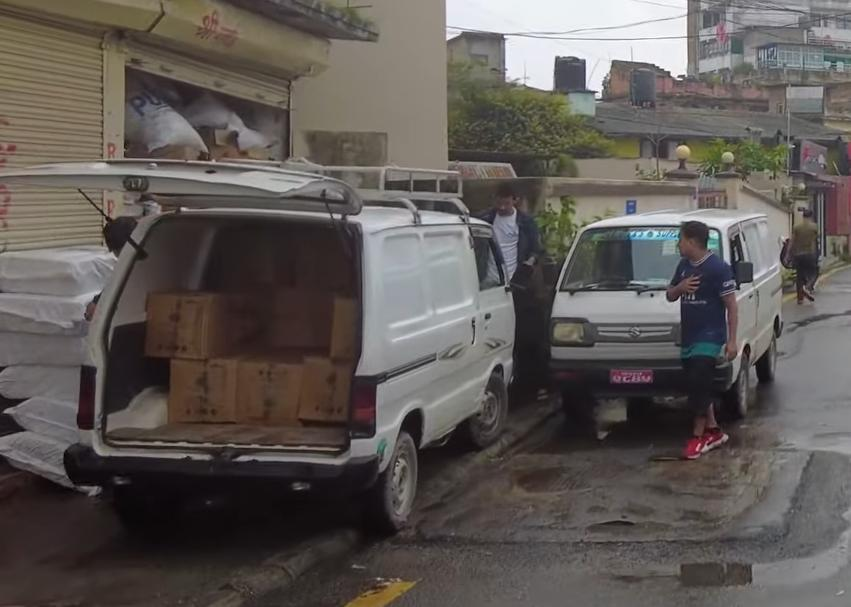van: (26, 175, 519, 533), (549, 203, 785, 415)
